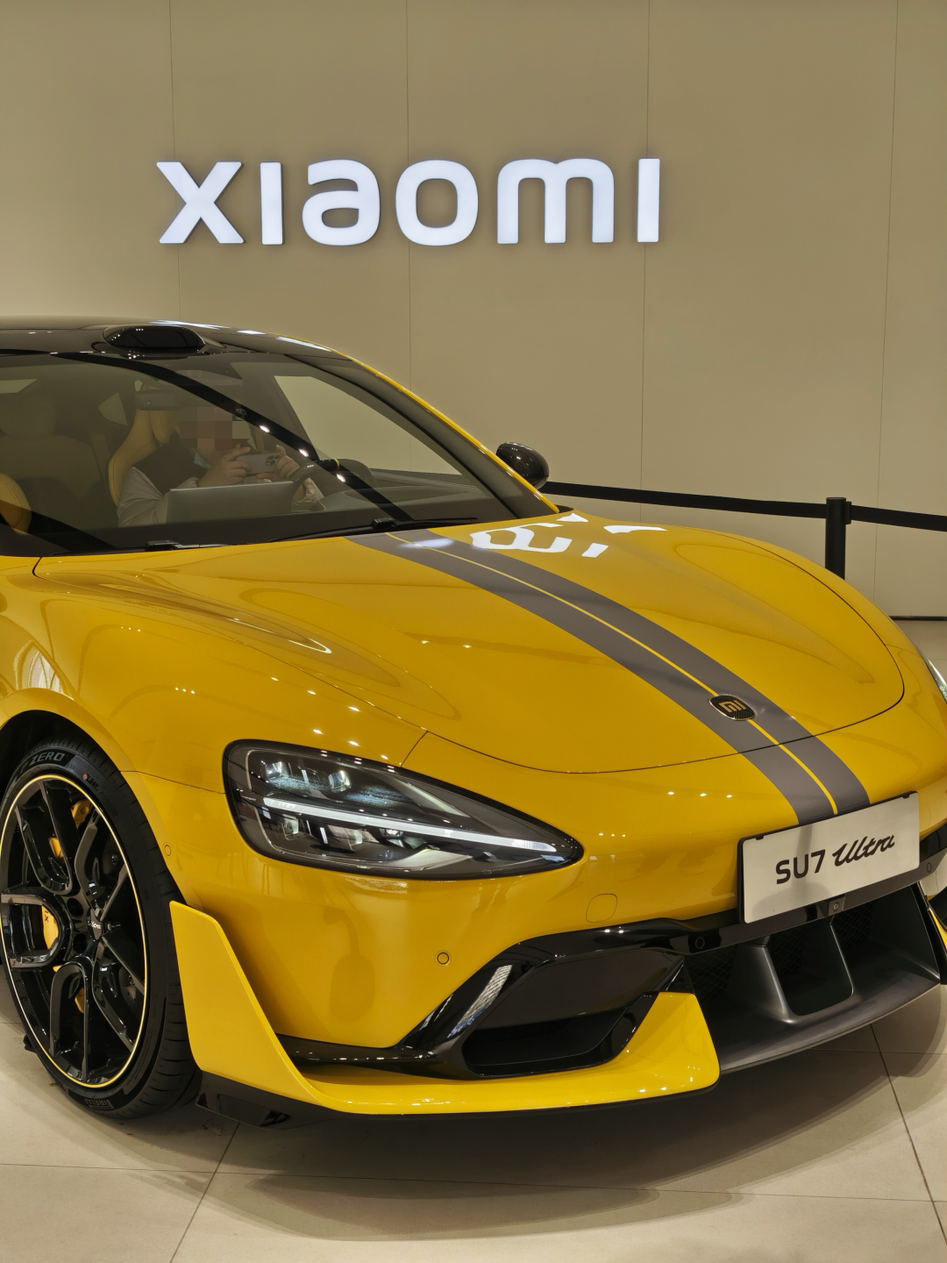su7: (0, 289, 947, 1128)
